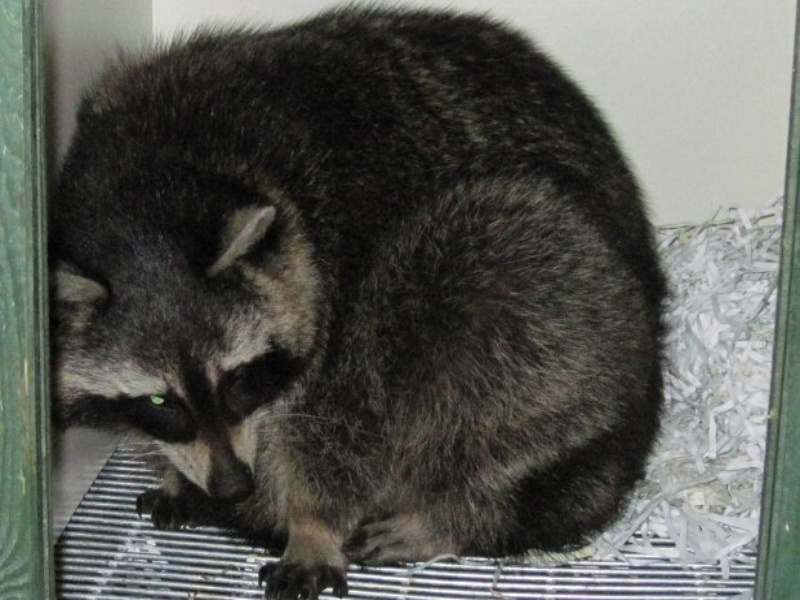raccoon: (41, 6, 672, 589)
